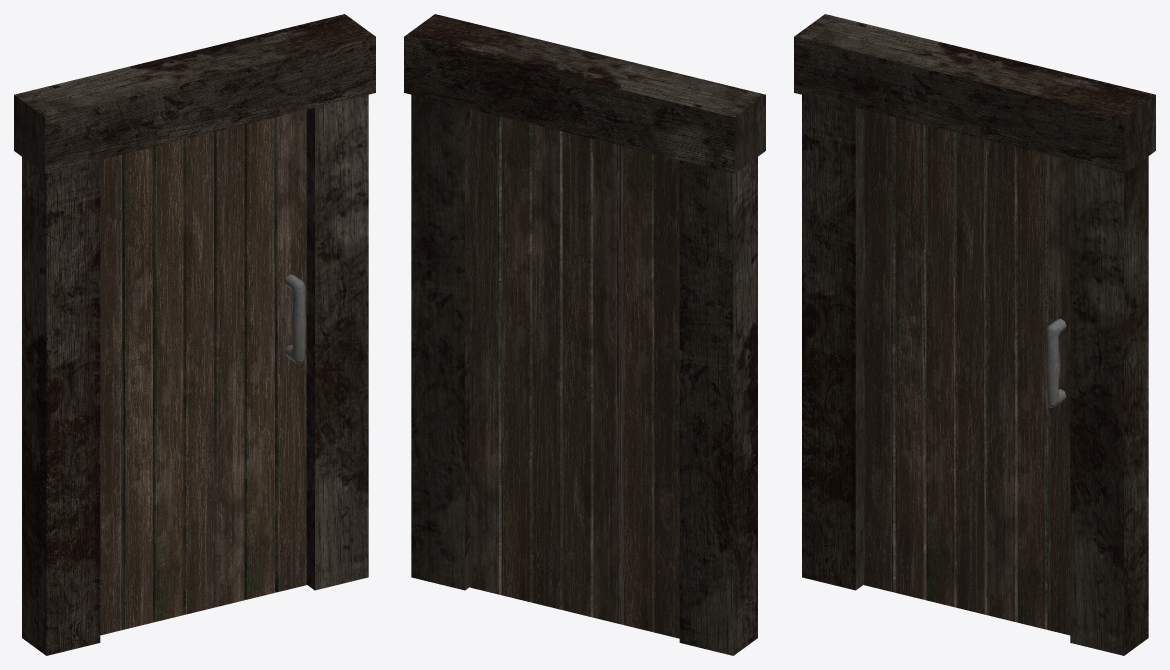
The model's file is DoorFramed.fbx.
3 renders of one model, left to right at view 1: azimuth 30°, elevation 25°; view 2: azimuth 150°, elevation 25°; view 3: azimuth 330°, elevation 25°, orthographic.
Parts seen in each view (by area): view 1: Regular Door Framed; view 2: Regular Door Framed; view 3: Regular Door Framed.
Boxes of the visible parts, x1,y1,x2,y2 form: Regular Door Framed: (14, 14, 375, 655); Regular Door Framed: (404, 14, 765, 655); Regular Door Framed: (794, 14, 1155, 655).
Size of the model in its own units: 139 by 217 by 23.69.
